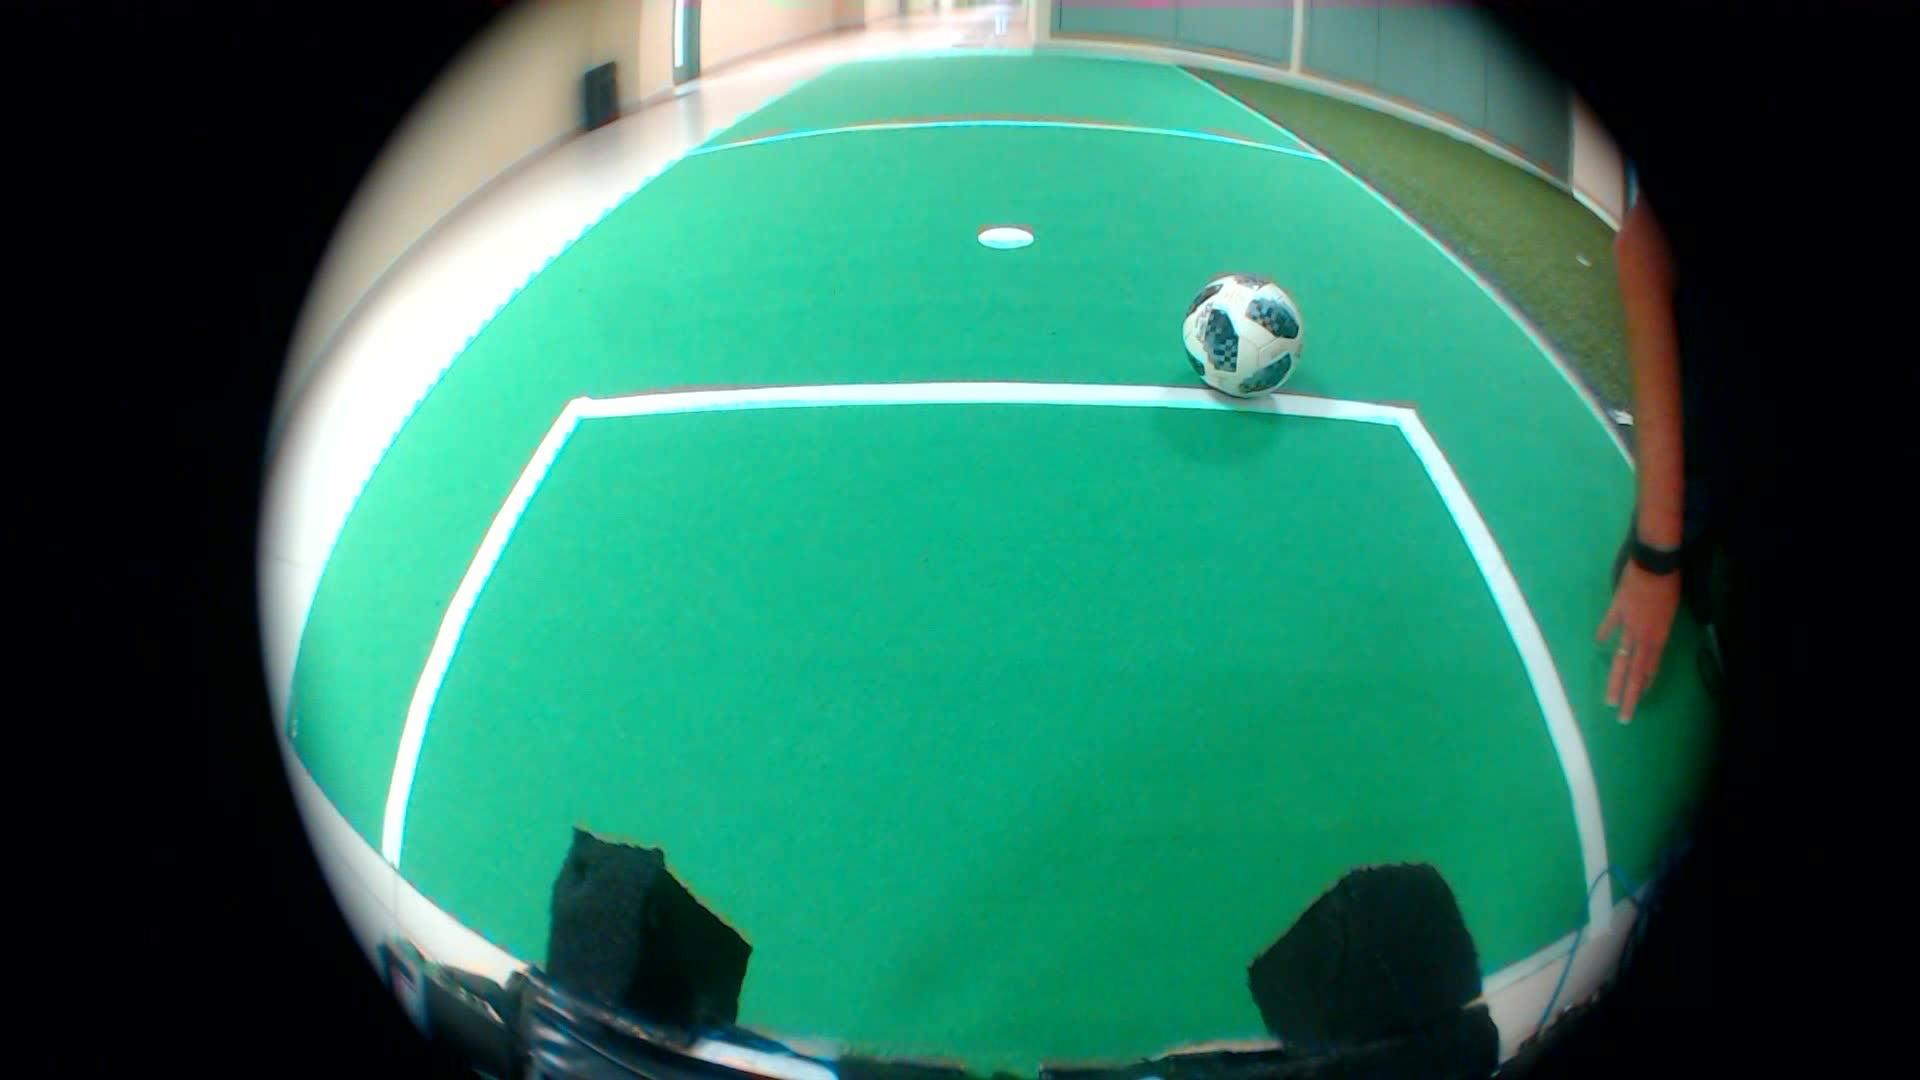ball: (1164, 258, 1319, 419)
